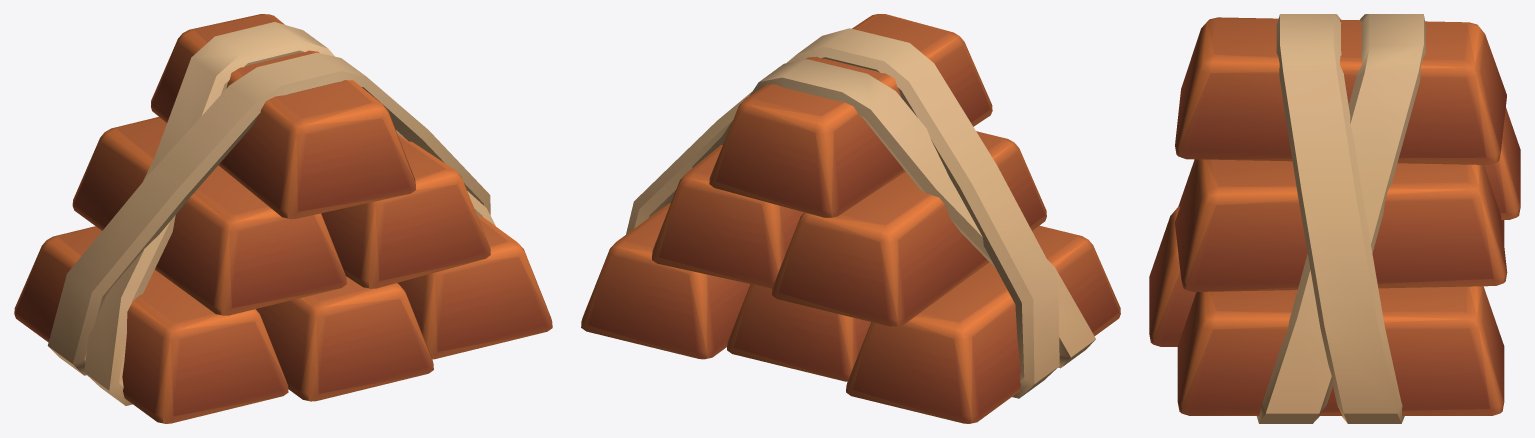
File: copper_bars.glb
3 views of the same model, side by side, from view 1: azimuth 30°, elevation 25°; view 2: azimuth 150°, elevation 25°; view 3: azimuth 270°, elevation 25° (orthographic). The views are drawn at different scales.
Visible parts, largest first — view 1: Copper_Bars; view 2: Copper_Bars; view 3: Copper_Bars.
Boxes of the visible parts, x1,y1,x2,y2 form: Copper_Bars: (14, 14, 552, 423); Copper_Bars: (581, 14, 1120, 423); Copper_Bars: (1149, 14, 1520, 423).
Size of the model in its own units: 1.27 by 0.7897 by 0.9106.
1 material, 1 textured.
